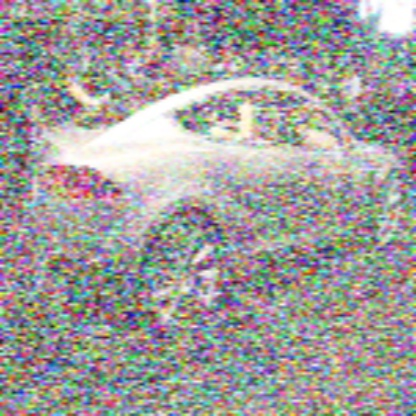Vehicle: (30, 73, 405, 335)
